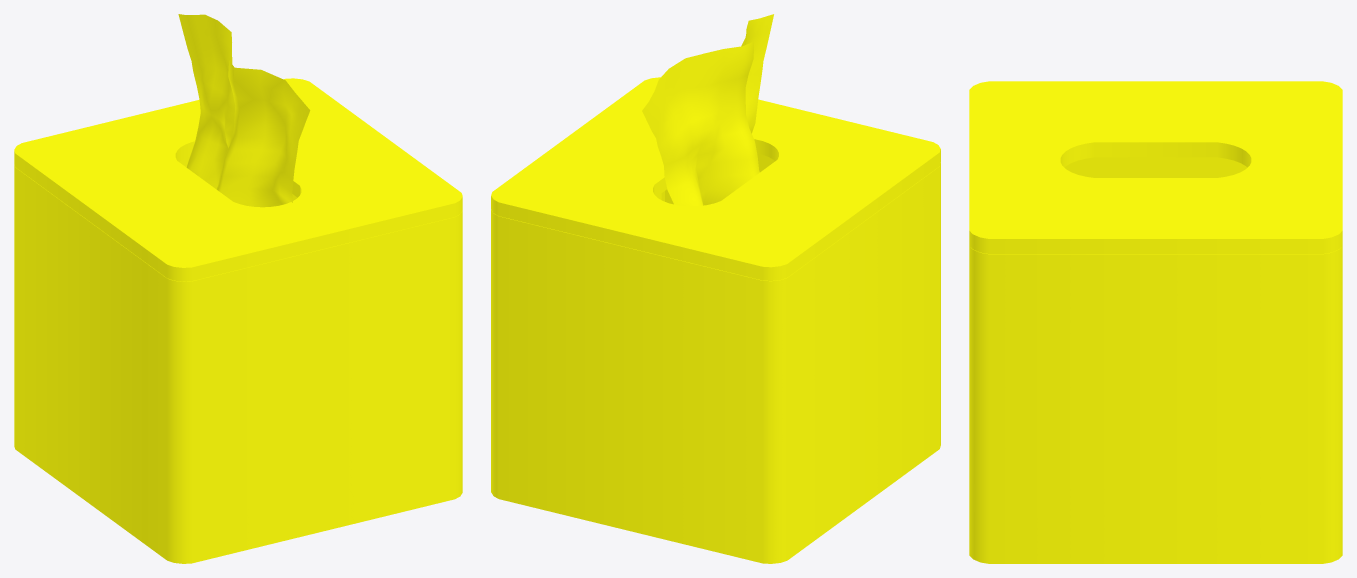
The model's file is SM_NapkinHolder01.glb.
3 views of the same model, side by side, from view 1: azimuth 30°, elevation 25°; view 2: azimuth 150°, elevation 25°; view 3: azimuth 270°, elevation 25° (orthographic). The views are drawn at different scales.
Visible parts, largest first — view 1: SM_NapkinHolder01; view 2: SM_NapkinHolder01; view 3: SM_NapkinHolder01.
Boxes of the visible parts, bbox=[...] form: SM_NapkinHolder01: bbox=[14, 14, 462, 563]; SM_NapkinHolder01: bbox=[491, 14, 940, 563]; SM_NapkinHolder01: bbox=[969, 81, 1342, 563].
Bounding box in the file's own units: 0.1627 × 0.2222 × 0.1627.
1 material, 1 textured.
